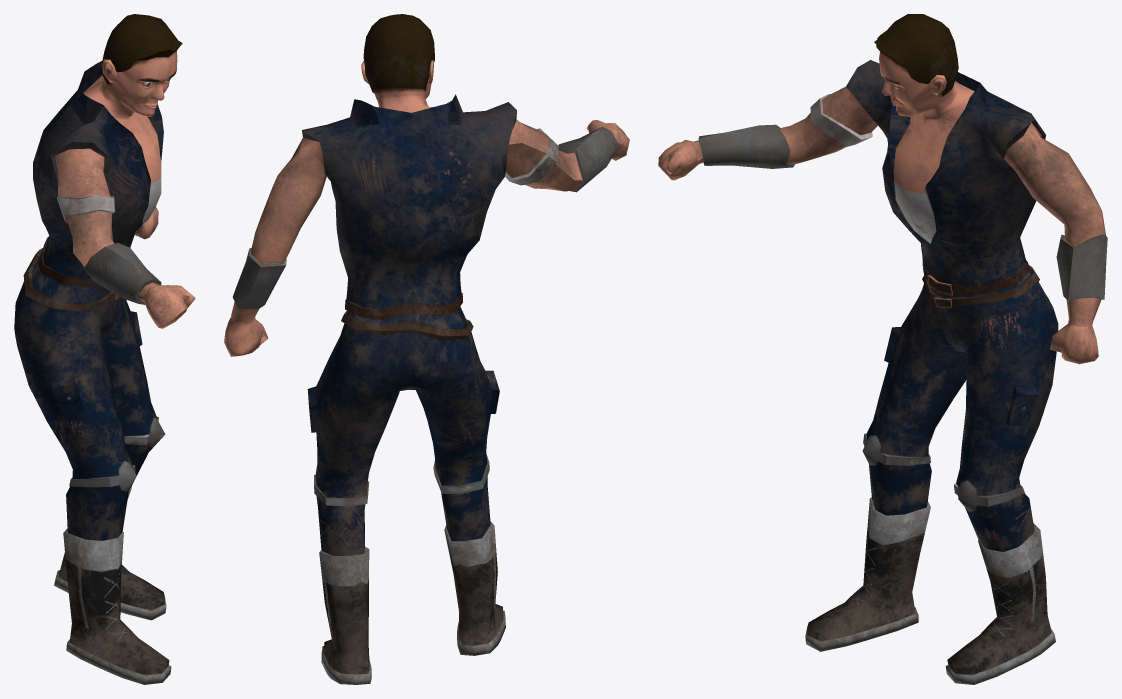
The model's file is Anim_puerta_mal_jugador.0023.obj.
3 renders of one model, left to right at view 1: azimuth 30°, elevation 25°; view 2: azimuth 150°, elevation 25°; view 3: azimuth 270°, elevation 25°, orthographic. The views are drawn at different scales.
Visible parts, largest first — view 1: polySurface1; view 2: polySurface1; view 3: polySurface1.
Part boxes in pixels (x1=…): polySurface1: x1=14, y1=14, x2=195, y2=684; polySurface1: x1=224, y1=14, x2=629, y2=684; polySurface1: x1=658, y1=14, x2=1107, y2=684.
Bounding box in the file's own units: 3.34 × 9.39 × 5.94.
